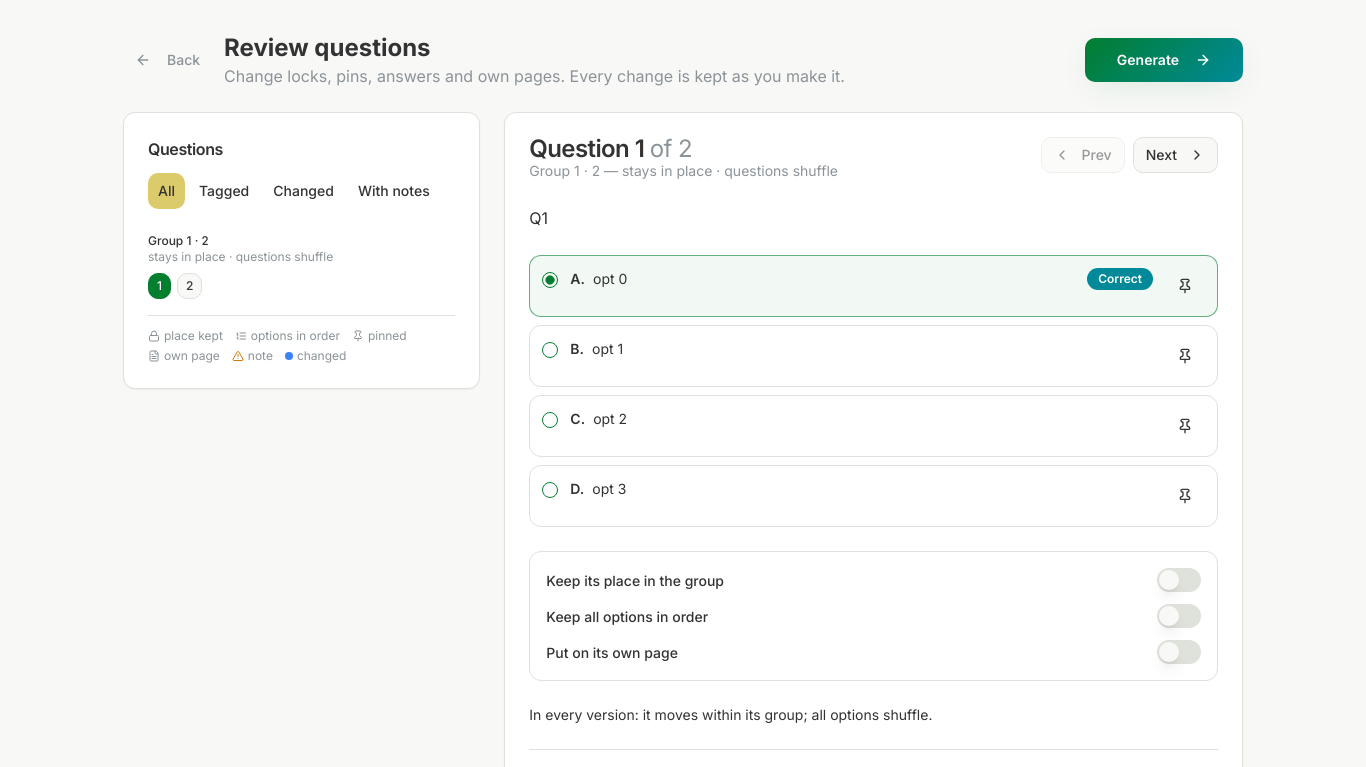
Scenario: Questions page › says once, at the top, when locks changed the versions
Click the radio button named "Option B is the correct answer" at [550, 350], box [542,342,558,358]
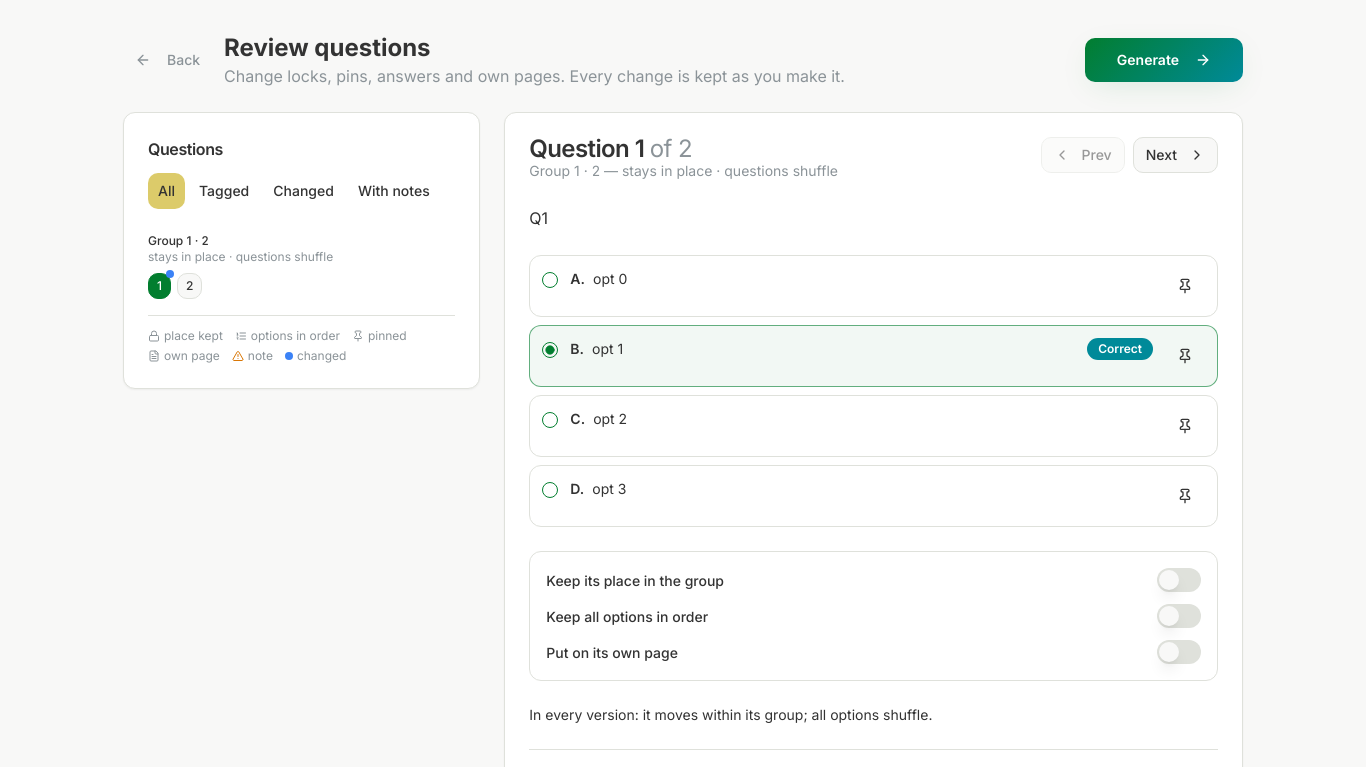
Click the switch in the row of "Keep its place in the group" at [1179, 580], box [1157,568,1201,592]
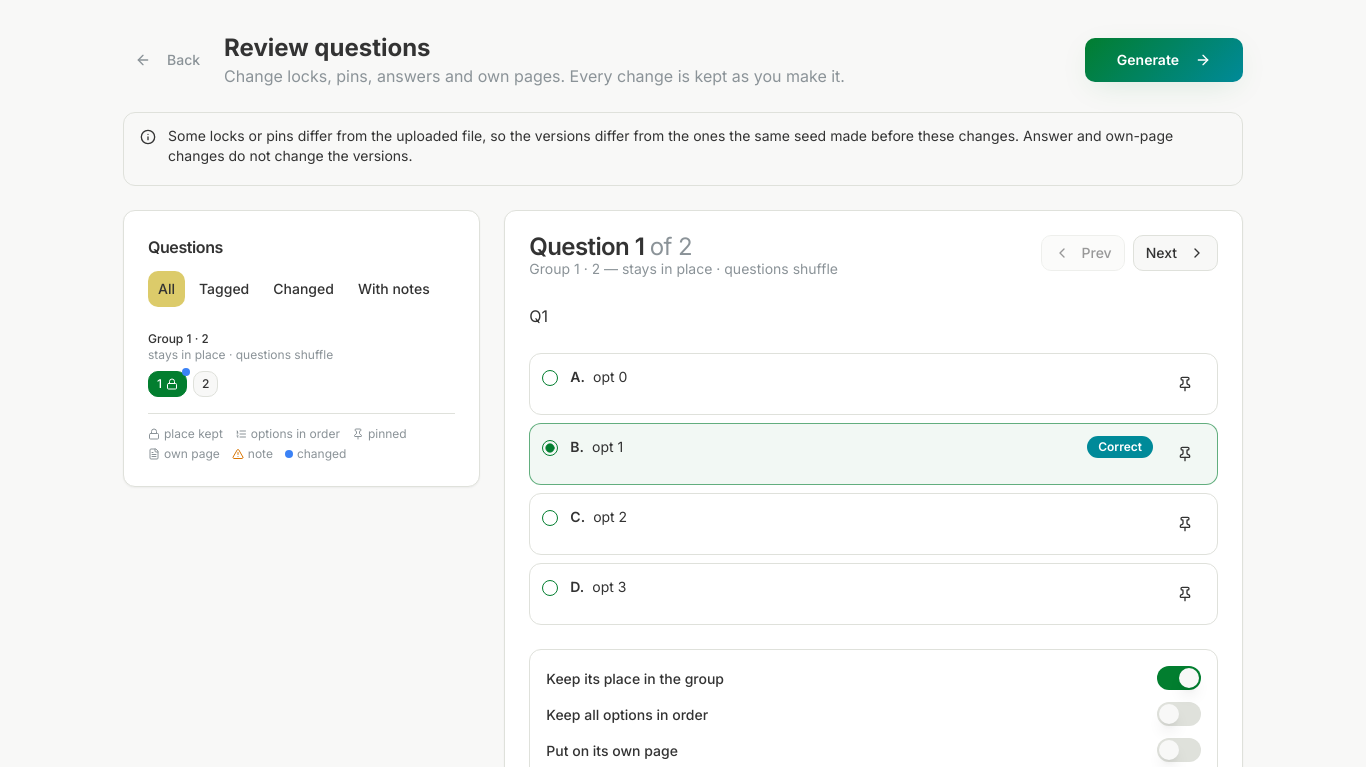
Now the message with test id "locks-changed" is shown, box [123,112,1243,186]
